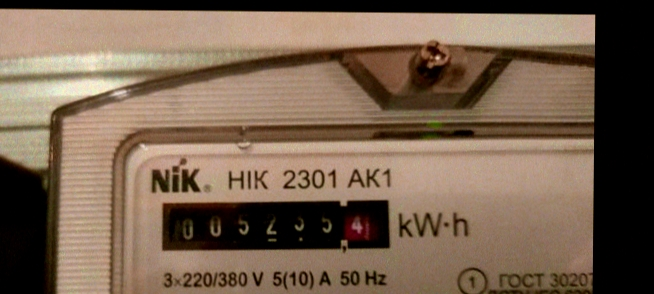0: (181, 216, 196, 241), (209, 214, 224, 238)
2: (264, 210, 280, 237)
3: (291, 208, 308, 233)
4: (349, 208, 367, 237)
5: (319, 207, 335, 235), (237, 211, 251, 236)
screen: (149, 187, 400, 262)
